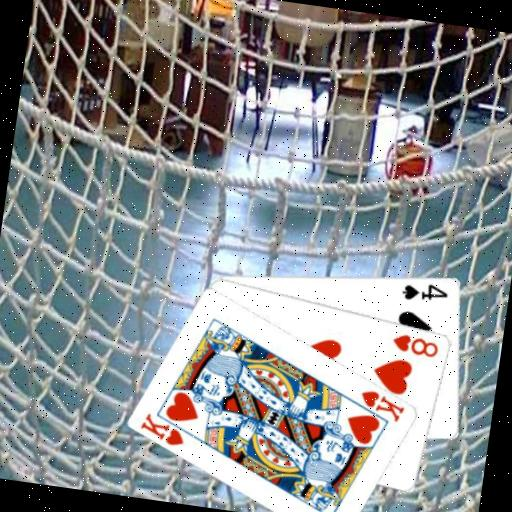4S: (398, 277, 451, 307)
8H: (388, 329, 441, 360)
KH: (136, 409, 189, 449), (355, 386, 409, 425)
